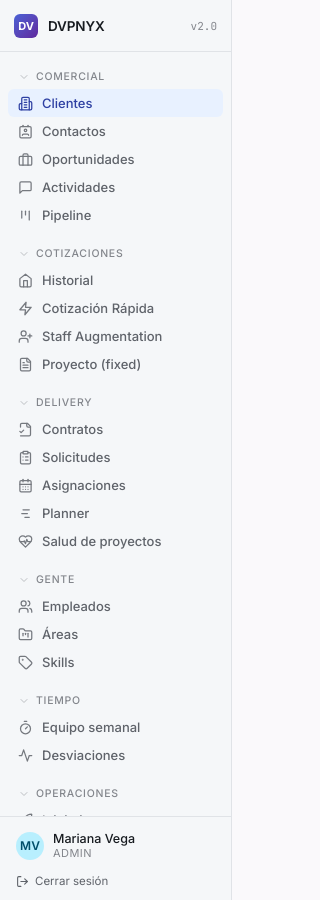
Scenario: Sidebar › clicking a section header collapses its items
Check: the link "Clientes" is shown, box [8, 89, 223, 117]
Click the button "Comercial" at (116, 78), box [8, 66, 223, 89]
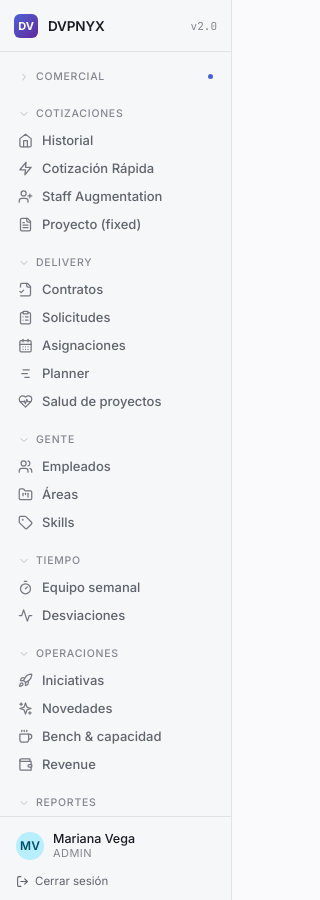
Check: the button "Comercial" is collapsed, box [8, 66, 223, 89]
